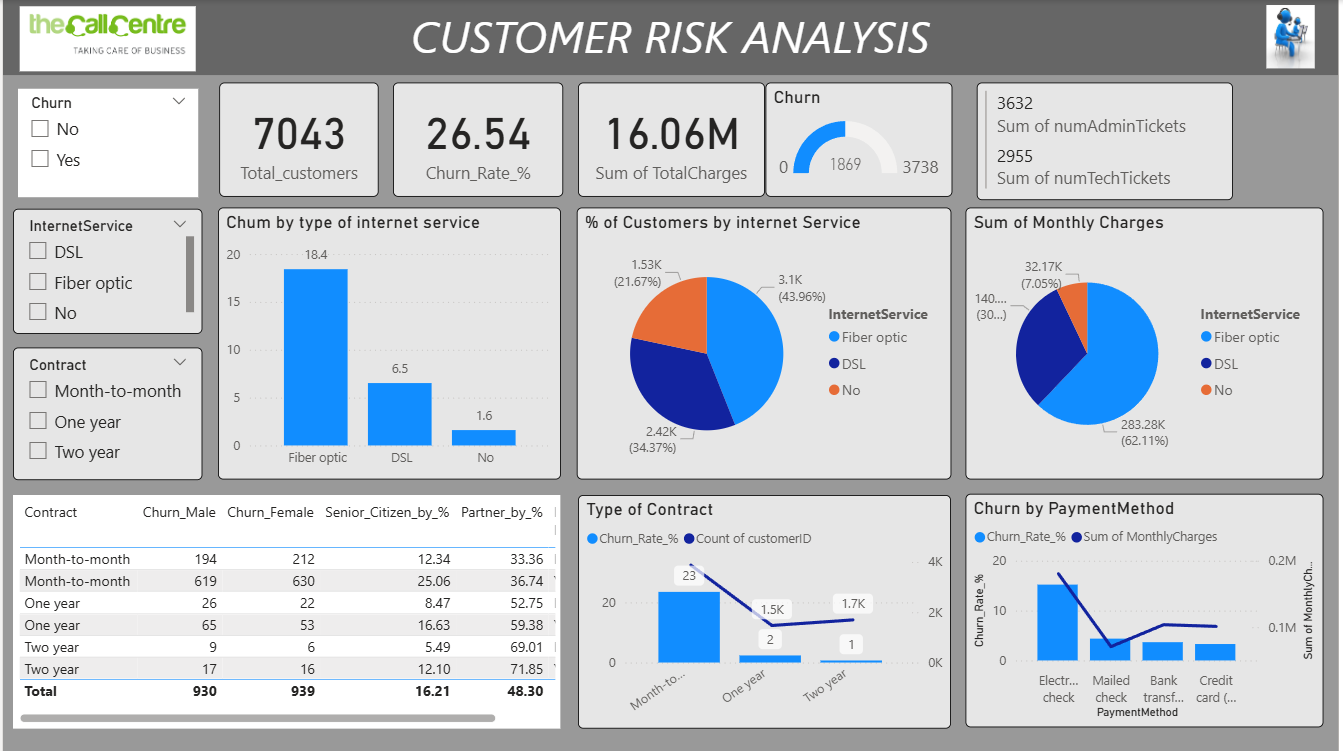

Layout of this report page (visuals, bound fields, positions):
{"tool":"powerbi","page":{"name":"Customer Risk Analysis","canvas":[1280,720],"ordinal":2},"visuals":[{"type":"card","fields":{"Values":["01 Churn-Dataset.Churn_Rate_%"]},"box":[373.7,79.1,163,109.6],"z":0},{"type":"textbox","box":[0,0,1279.7,72.1],"z":1000},{"type":"card","fields":{"Values":["Sum(01 Churn-Dataset.TotalCharges)"]},"box":[551.1,79.4,178.9,109.6],"z":2000},{"type":"gauge","title":"Churn","fields":{"Y":["01 Churn-Dataset.Customers_at_Risk"]},"box":[731.2,79.1,178.9,109.6],"z":3000},{"type":"slicer","fields":{"Values":["01 Churn-Dataset.InternetService"]},"box":[10.1,200.5,181.8,119.7],"z":4000},{"type":"card","fields":{"Values":["01 Churn-Dataset.Total_customers"]},"box":[207.8,79.4,152.9,109.6],"z":5000},{"type":"columnChart","title":"Chum by type of internet service","fields":{"Category":["01 Churn-Dataset.InternetService"],"Y":["01 Churn-Dataset.Churn_Rate_%"]},"box":[206.3,199.1,328.9,261.1],"z":7000},{"type":"pieChart","title":"Sum of Monthly Charges","fields":{"Category":["01 Churn-Dataset.InternetService"],"Y":["Sum(01 Churn-Dataset.MonthlyCharges)"]},"box":[923.4,199.1,343.4,261.1],"z":8000},{"type":"pieChart","title":"% of Customers by internet Service","fields":{"Category":["01 Churn-Dataset.InternetService"],"Y":["CountNonNull(01 Churn-Dataset.customerID)"]},"box":[549.7,199.1,359.2,261.1],"z":9000},{"type":"lineClusteredColumnComboChart","title":"Churn by PaymentMethod","fields":{"Category":["01 Churn-Dataset.PaymentMethod"],"Y2":["Sum(01 Churn-Dataset.MonthlyCharges)"],"Y":["01 Churn-Dataset.Churn_Rate_%"]},"box":[923.4,473.2,343.4,223.6],"z":10000},{"type":"image","box":[1188.8,0,90.9,70.7],"z":13000},{"type":"image","box":[10.1,1.4,181.8,72.1],"z":14000},{"type":"slicer","fields":{"Values":["01 Churn-Dataset.Churn"]},"box":[14.4,85.1,173.1,103.9],"z":15000},{"type":"slicer","fields":{"Values":["01 Churn-Dataset.Contract"]},"box":[10.1,333.3,181.8,127],"z":16000},{"type":"multiRowCard","fields":{"Values":["Sum(01 Churn-Dataset.numAdminTickets)","Sum(01 Churn-Dataset.numTechTickets)"]},"box":[933.5,79.4,245.3,112.5],"z":16001},{"type":"lineStackedColumnComboChart","title":"Type of  Contract","fields":{"Y":["01 Churn-Dataset.Churn_Rate_%"],"Category":["01 Churn-Dataset.Contract"],"Y2":["CountNonNull(01 Churn-Dataset.customerID)"]},"box":[551.1,474.7,357.8,223.6],"z":16002},{"type":"tableEx","fields":{"Values":["01 Churn-Dataset.Contract","01 Churn-Dataset.Churn_Male","01 Churn-Dataset.Churn_Female","01 Churn-Dataset.Senior_Citizen_by_%","01 Churn-Dataset.Partner_by_%","01 Churn-Dataset.PaperlessBilling"]},"box":[10.1,474.7,525.2,223.6],"z":16003}]}

Visuals, with their boxes in screenshot pixels (x1, y1, x2, y2), scaled from the page's 1280x720 canvas onto the 1343x751 screenshot:
card - 01 Churn-Dataset.Churn_Rate_%: crop(392, 83, 563, 197)
textbox: crop(0, 0, 1342, 75)
card - Sum(01 Churn-Dataset.TotalCharges): crop(578, 83, 766, 197)
"Churn" gauge: crop(767, 83, 955, 197)
slicer - 01 Churn-Dataset.InternetService: crop(11, 209, 201, 334)
card - 01 Churn-Dataset.Total_customers: crop(218, 83, 378, 197)
"Chum by type of internet service" columnChart: crop(216, 208, 562, 480)
"Sum of Monthly Charges" pieChart: crop(969, 208, 1329, 480)
"% of Customers by internet Service" pieChart: crop(577, 208, 954, 480)
"Churn by PaymentMethod" lineClusteredColumnComboChart: crop(969, 494, 1329, 727)
image: crop(1247, 0, 1342, 74)
image: crop(11, 1, 201, 77)
slicer - 01 Churn-Dataset.Churn: crop(15, 89, 197, 197)
slicer - 01 Churn-Dataset.Contract: crop(11, 348, 201, 480)
multiRowCard - Sum(01 Churn-Dataset.numAdminTickets) x Sum(01 Churn-Dataset.numTechTickets): crop(979, 83, 1237, 200)
"Type of  Contract" lineStackedColumnComboChart: crop(578, 495, 954, 728)
tableEx - 01 Churn-Dataset.Contract x 01 Churn-Dataset.Churn_Male: crop(11, 495, 562, 728)
